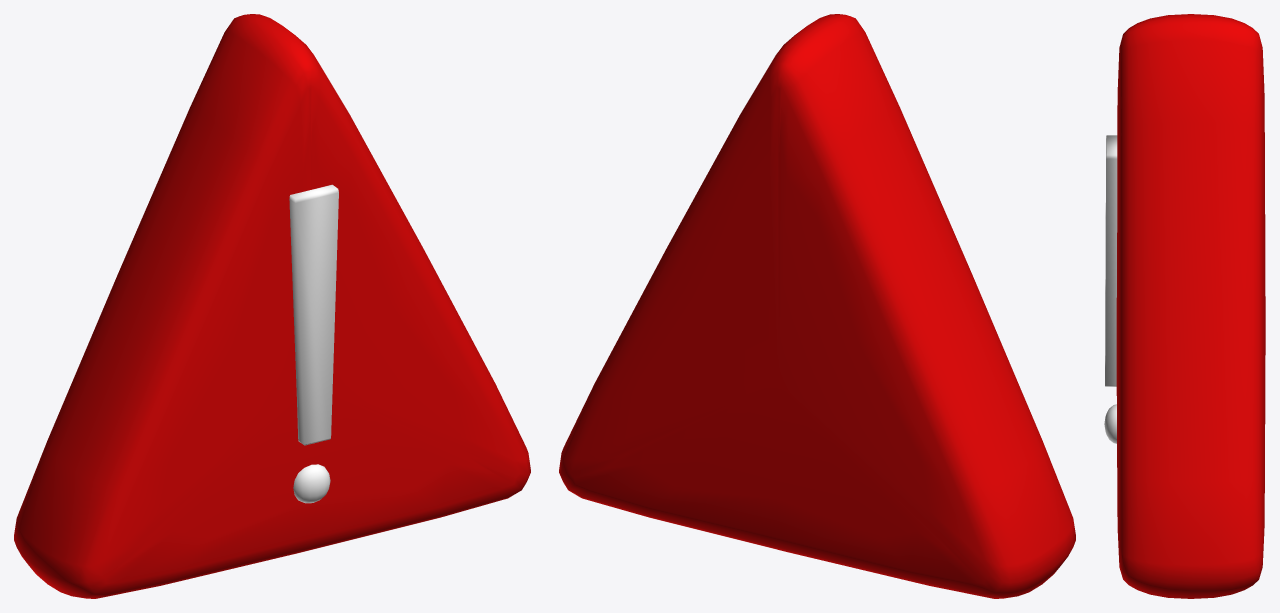
File: rad_triangle.glb
The picture shows the model from 3 angles, left to right: view 1: azimuth 30°, elevation 25°; view 2: azimuth 150°, elevation 25°; view 3: azimuth 270°, elevation 25°; orthographic projection. The views are drawn at different scales.
Visible parts, largest first — view 1: 红三角, 感叹号; view 2: 红三角; view 3: 红三角, 感叹号.
Boxes of the visible parts, bbox=[...] form: 红三角: bbox=[14, 14, 530, 598]; 感叹号: bbox=[289, 184, 338, 503]; 红三角: bbox=[559, 14, 1075, 598]; 红三角: bbox=[1116, 14, 1265, 598]; 感叹号: bbox=[1104, 135, 1117, 443].
Bounding box in the file's own units: 1.46 × 1.5 × 0.4501.
